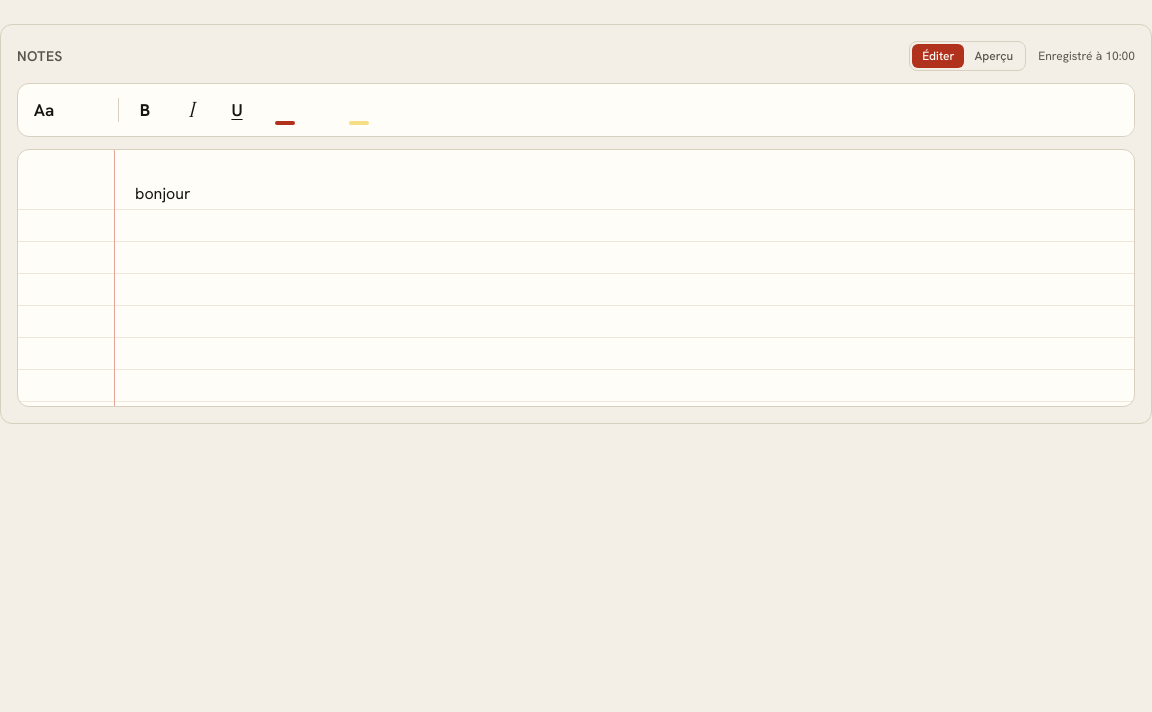
Test: phone toolbar and sheet (YC-47) › « Aa » opens the sheet as a modal dialog, the focus on « Fermer »
Expected: the field named "Note de la vidéo" reads "bonjour", [135,183,190,204]
Click the button with aria-label "Toute la mise en forme".
click(44, 110)  # box [22,88,66,132]
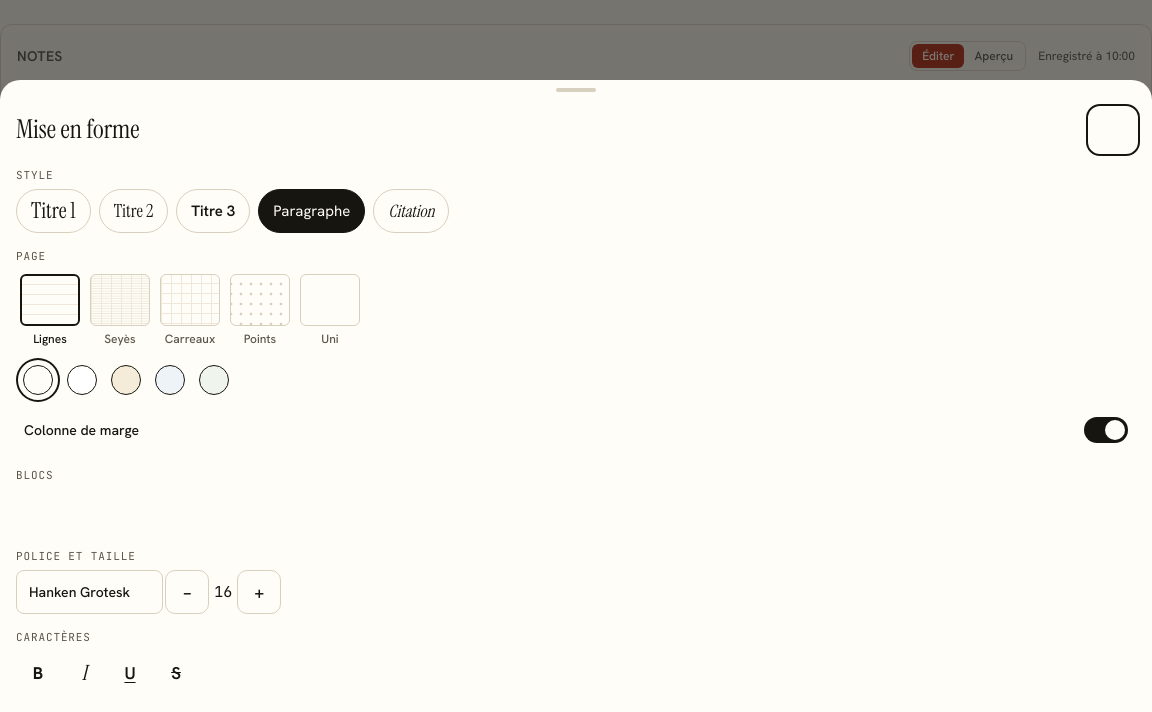
Expected: the button with aria-label "Toute la mise en forme" is expanded, [22,88,66,132]
